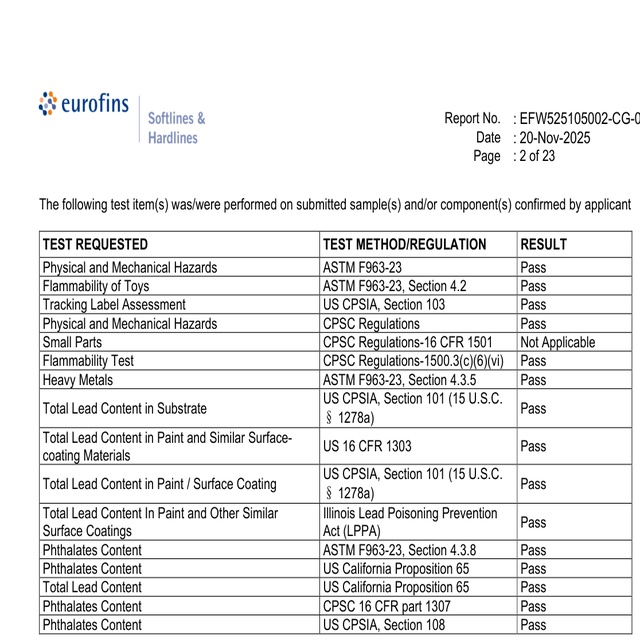eurofins: (34, 88, 133, 120)
